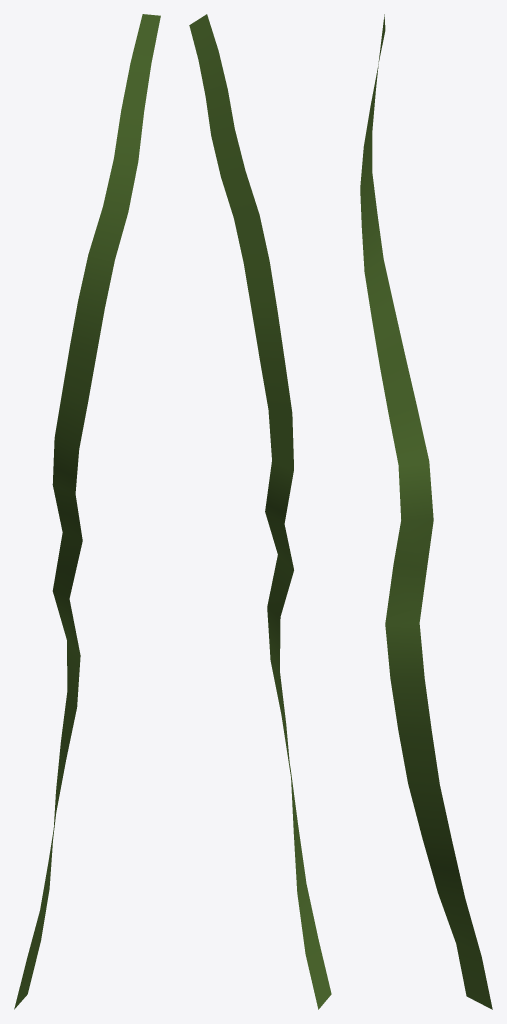
File: plant_swamp_kelp_long_solo_T.fbx
3 renders of one model, left to right at view 1: azimuth 30°, elevation 25°; view 2: azimuth 210°, elevation 25°; view 3: azimuth 270°, elevation 25°, orthographic. The views are drawn at different scales.
Visible parts, largest first — view 1: plant_swamp_kelp_long_solo_T; view 2: plant_swamp_kelp_long_solo_T; view 3: plant_swamp_kelp_long_solo_T.
Part boxes in pixels (left/top/right/bottom): plant_swamp_kelp_long_solo_T: left=14, top=14, right=160, bottom=1009; plant_swamp_kelp_long_solo_T: left=189, top=14, right=331, bottom=1009; plant_swamp_kelp_long_solo_T: left=360, top=14, right=492, bottom=1009.
Size of the model in its own units: 26.28 by 235 by 27.53.
